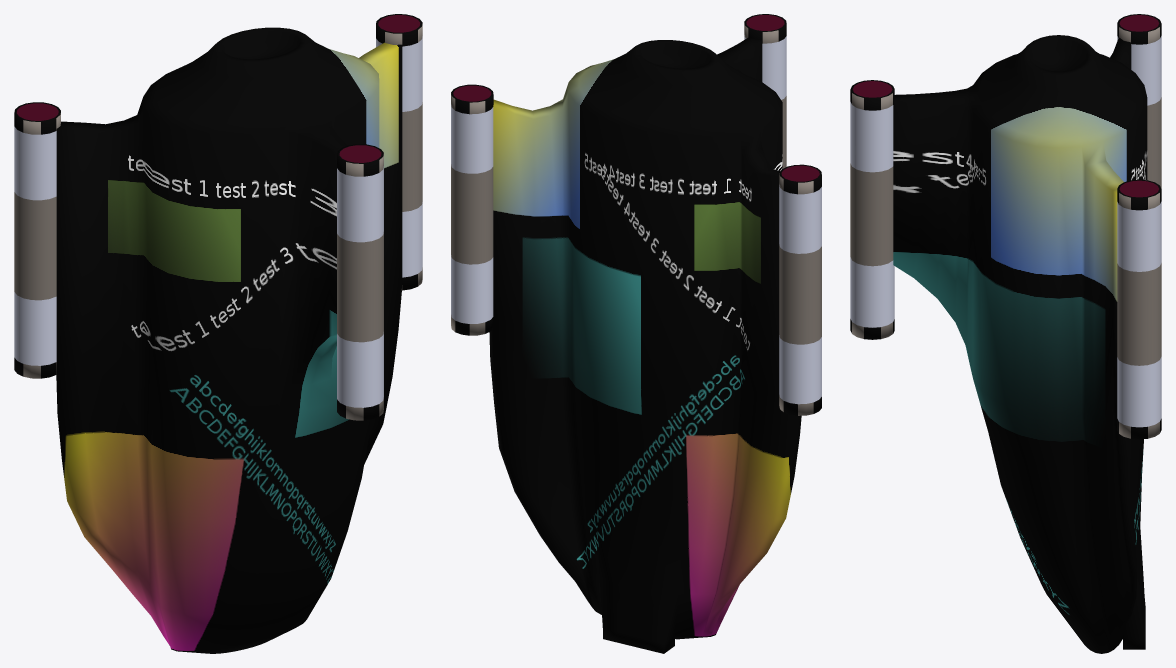
Rendered from spaceship.fbx.
3 views of the same model, side by side, from view 1: azimuth 30°, elevation 25°; view 2: azimuth 150°, elevation 25°; view 3: azimuth 270°, elevation 25° (orthographic). The views are drawn at different scales.
Visible parts, largest first — view 1: Ship, Engine_Top, Engine_Right, Engine_Left; view 2: Ship, Engine_Left, Engine_Right, Engine_Top; view 3: Ship, Engine_Left, Engine_Top, Engine_Right.
Part boxes in pixels (bbox=[...]): Ship: bbox=[56, 27, 402, 653]; Engine_Top: bbox=[337, 144, 383, 420]; Engine_Right: bbox=[14, 102, 60, 378]; Engine_Left: bbox=[376, 14, 422, 290]; Ship: bbox=[489, 37, 801, 653]; Engine_Left: bbox=[451, 84, 493, 335]; Engine_Right: bbox=[779, 164, 821, 415]; Engine_Top: bbox=[744, 14, 786, 168]; Ship: bbox=[893, 35, 1147, 653]; Engine_Left: bbox=[1117, 179, 1161, 439]; Engine_Top: bbox=[850, 80, 894, 339]; Engine_Right: bbox=[1117, 14, 1161, 188].
Bounding box in the file's own units: 7.38 × 10.85 × 5.26.
8 materials, 4 textured.
